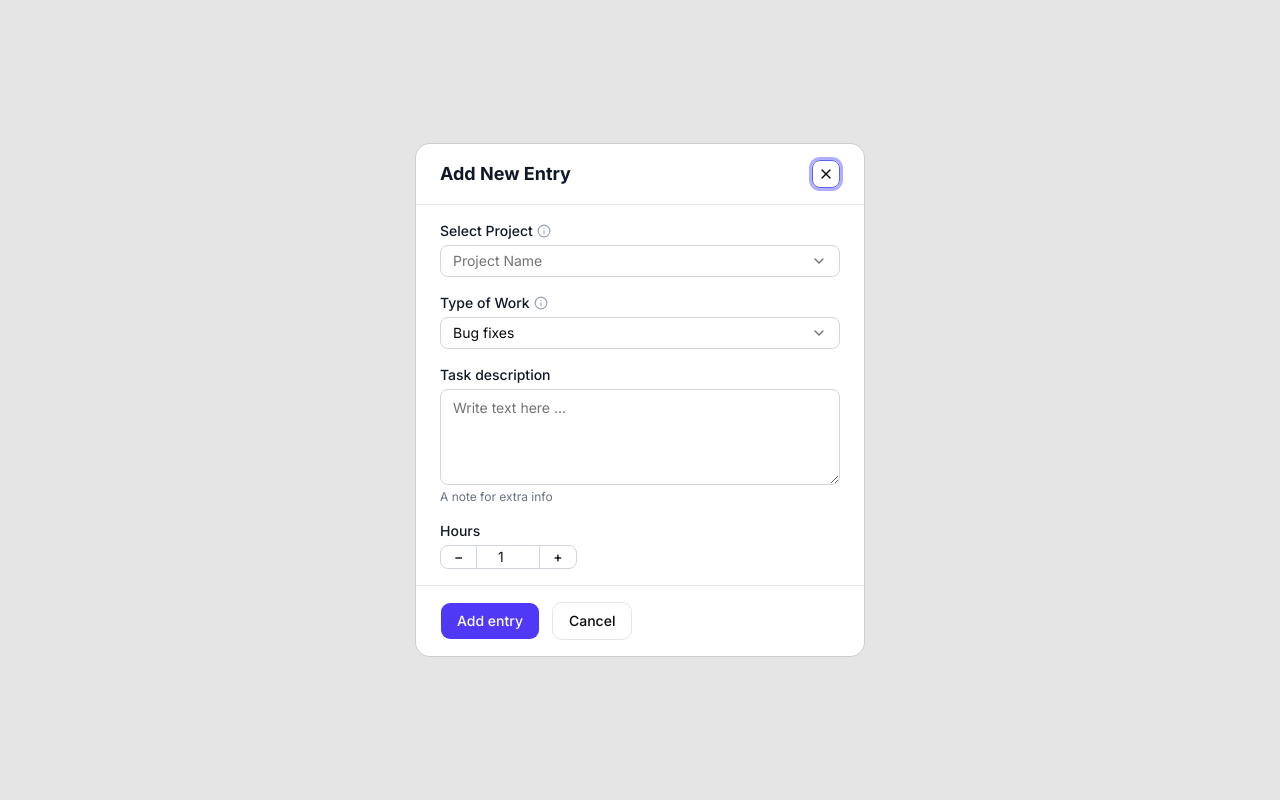
Test: EntryModal › shows validation errors and does not submit when description is empty
Click the dropdown named "select project": (498, 260) [440, 245, 840, 277]
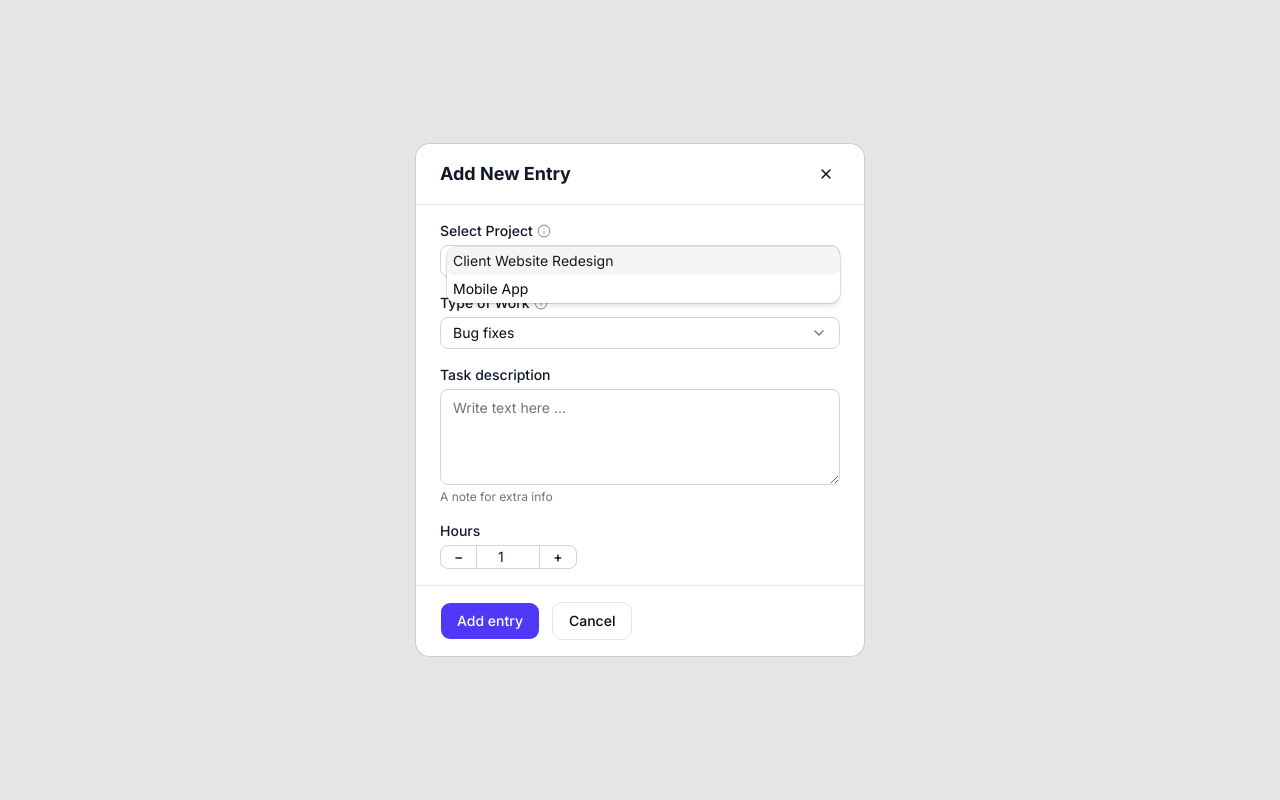
Click the option "Mobile App": (491, 288) [453, 280, 528, 297]
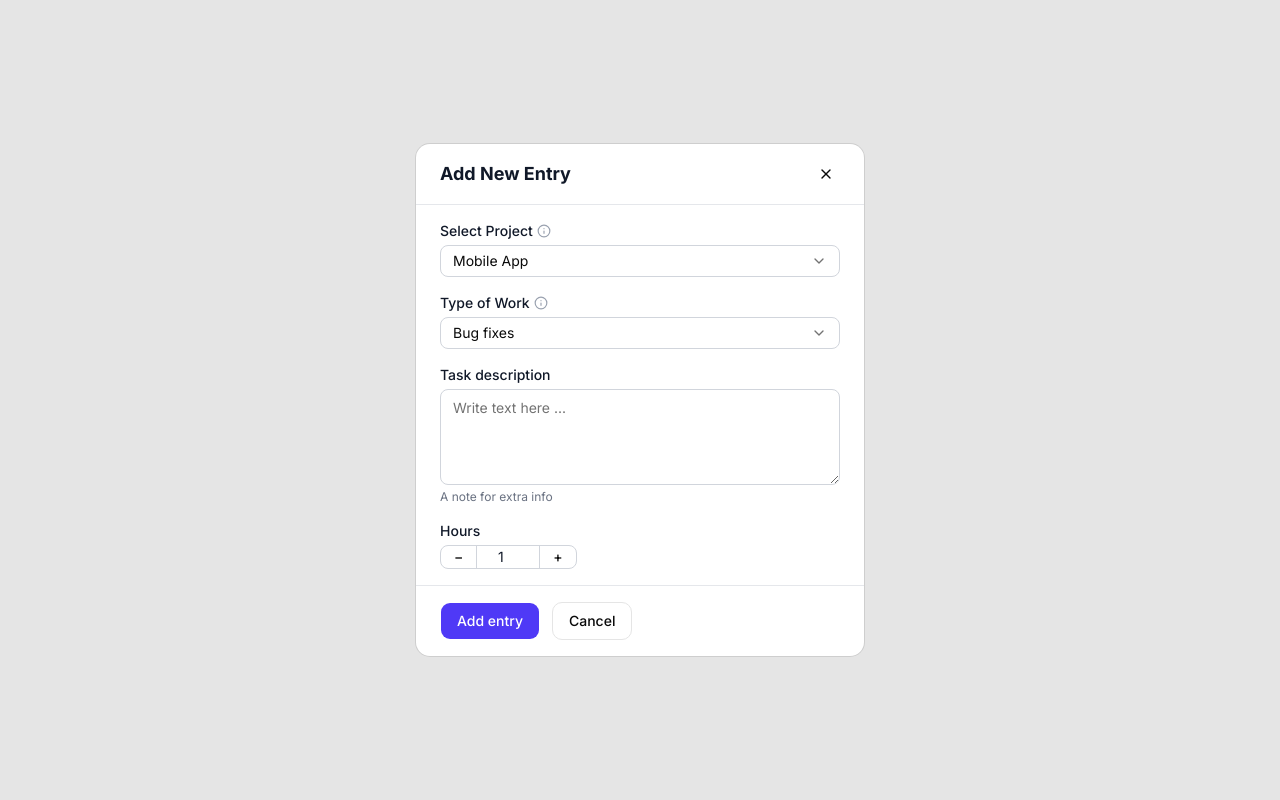
Click the button "Add entry": (490, 621) [440, 602, 540, 640]
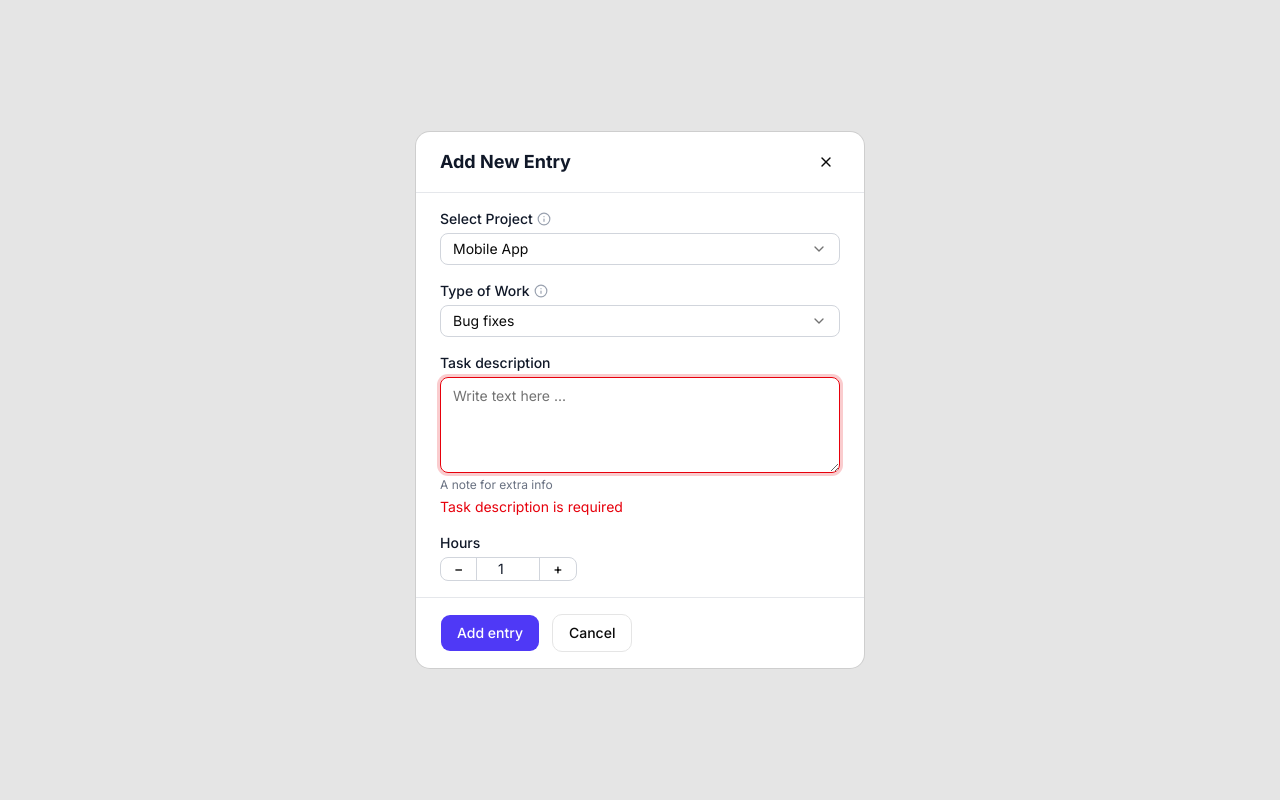
Expected: the text "Task description is required" is shown, [440, 498, 623, 515]
